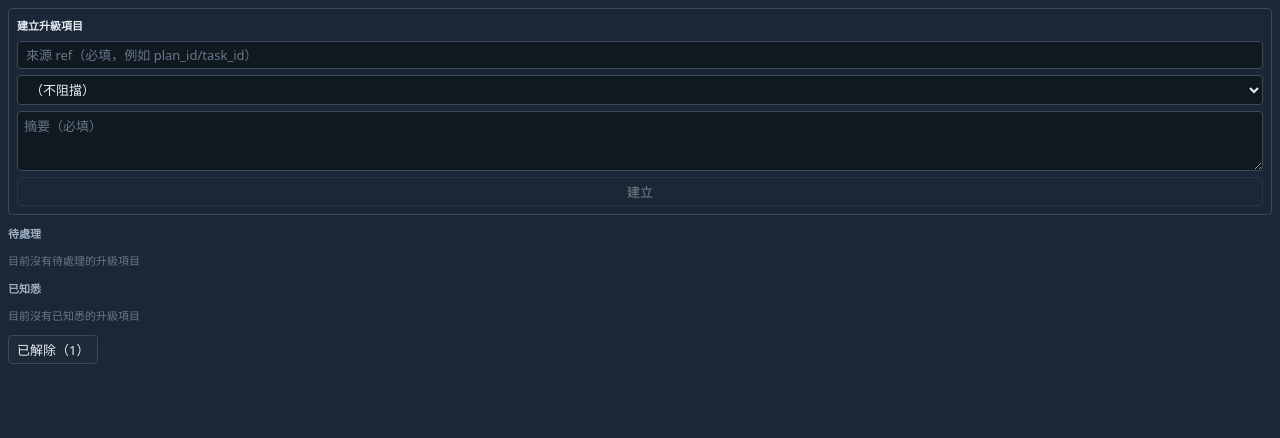
EscalationInbox › resolved 摺疊區預設收合，展開後顯示已解除項目
Click the button with test id "toggle-resolved".
click(53, 350)  # box [8,335,98,364]
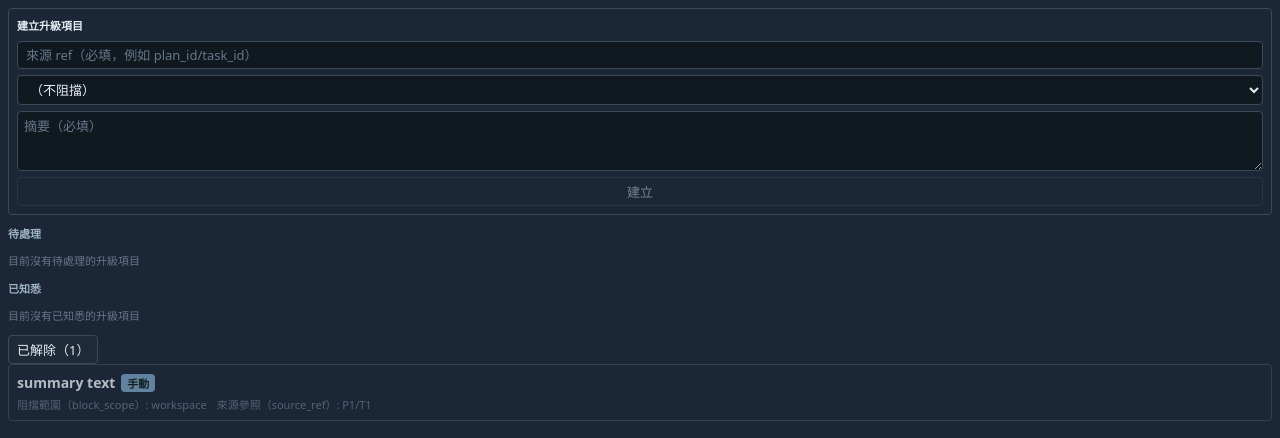
expect the element with test id "entry-E-res" is shown: met, box [8,364,1272,421]
